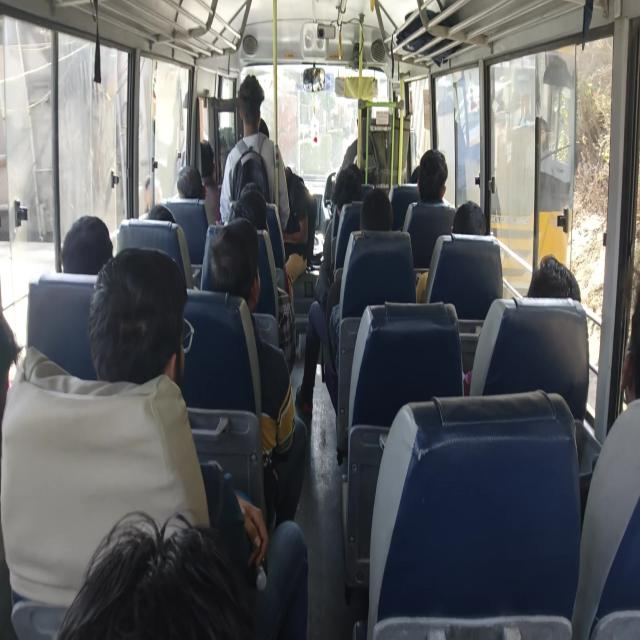person: (84, 519, 258, 640), (98, 260, 182, 377), (205, 221, 261, 305), (601, 297, 640, 403), (58, 212, 113, 277), (543, 247, 586, 308), (420, 154, 466, 210), (337, 161, 371, 220), (0, 336, 22, 418), (228, 194, 269, 236), (286, 169, 306, 251), (364, 186, 399, 232), (240, 76, 266, 134), (456, 198, 486, 238), (174, 157, 200, 197), (148, 198, 174, 238), (198, 134, 222, 177), (241, 175, 268, 199), (408, 159, 429, 184)
